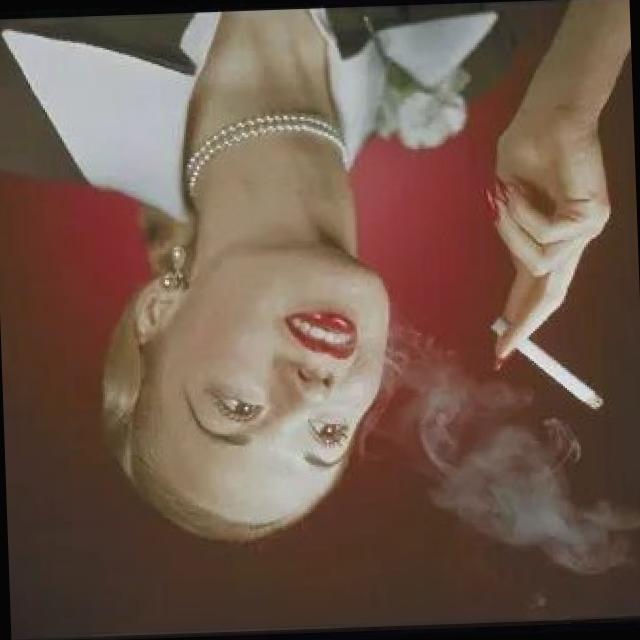smoke: (482, 310, 613, 416)
